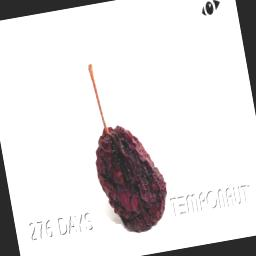Apple Rotten: (56, 10, 196, 244)
